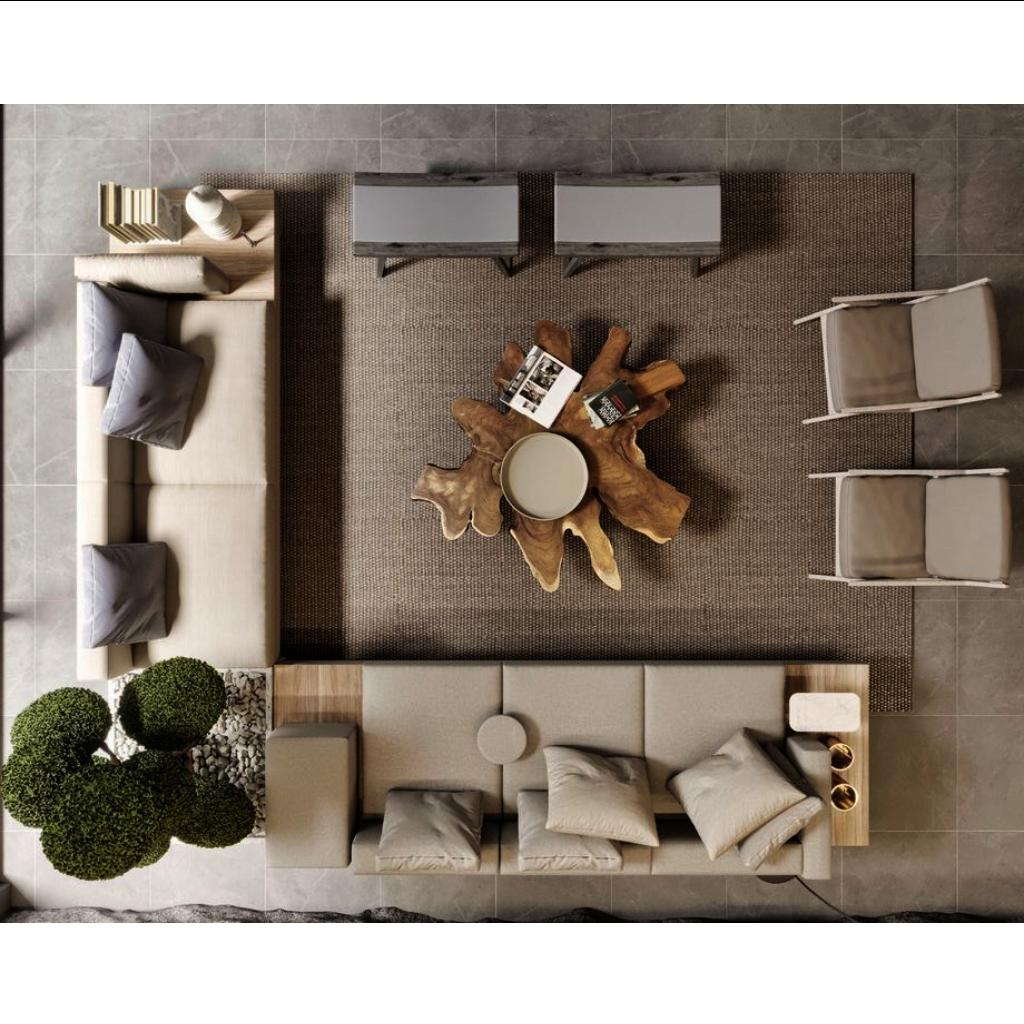bench: (551, 168, 723, 274), (352, 170, 520, 272)
chair: (792, 272, 1004, 428), (804, 462, 1012, 590)
coffee table: (408, 319, 694, 591)
floor plant: (80, 682, 256, 856)
rug: (200, 170, 914, 714)
sofa: (272, 666, 870, 876), (81, 186, 269, 664)
window: (4, 620, 24, 884), (4, 354, 24, 614), (4, 108, 22, 348)
